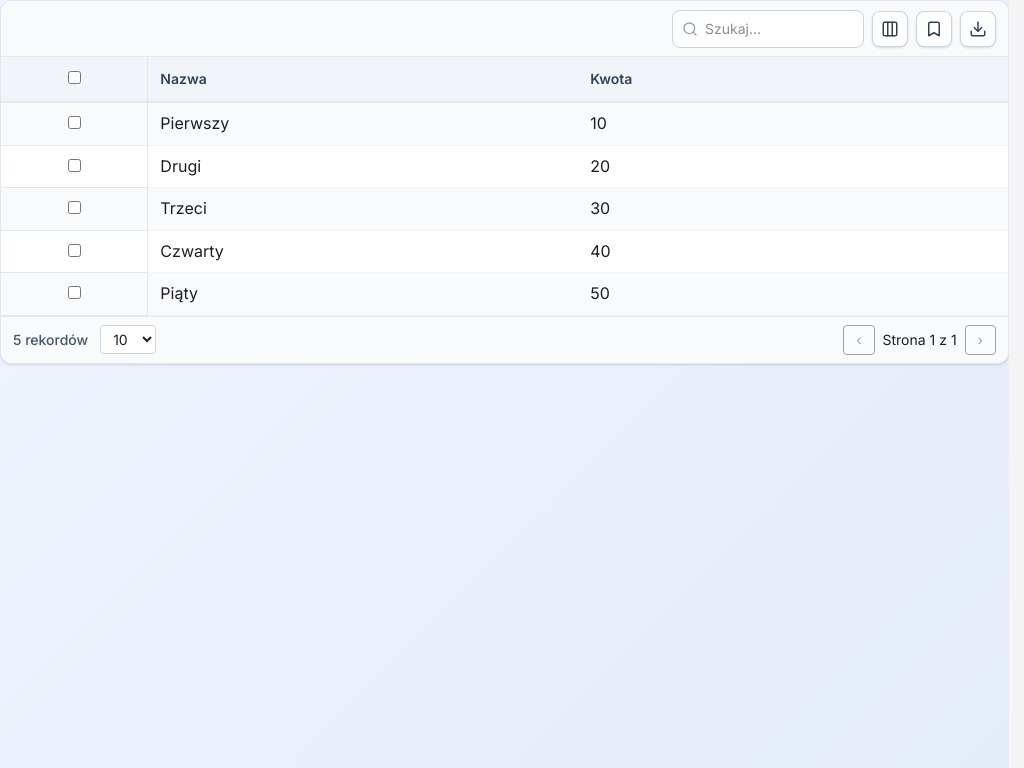
DataGrid inline editing › selects the visible range between an anchor row and a Shift-clicked row
Click the checkbox named "Zaznacz rekord 1" at {"x": 74, "y": 122}, box [68,116,81,129]
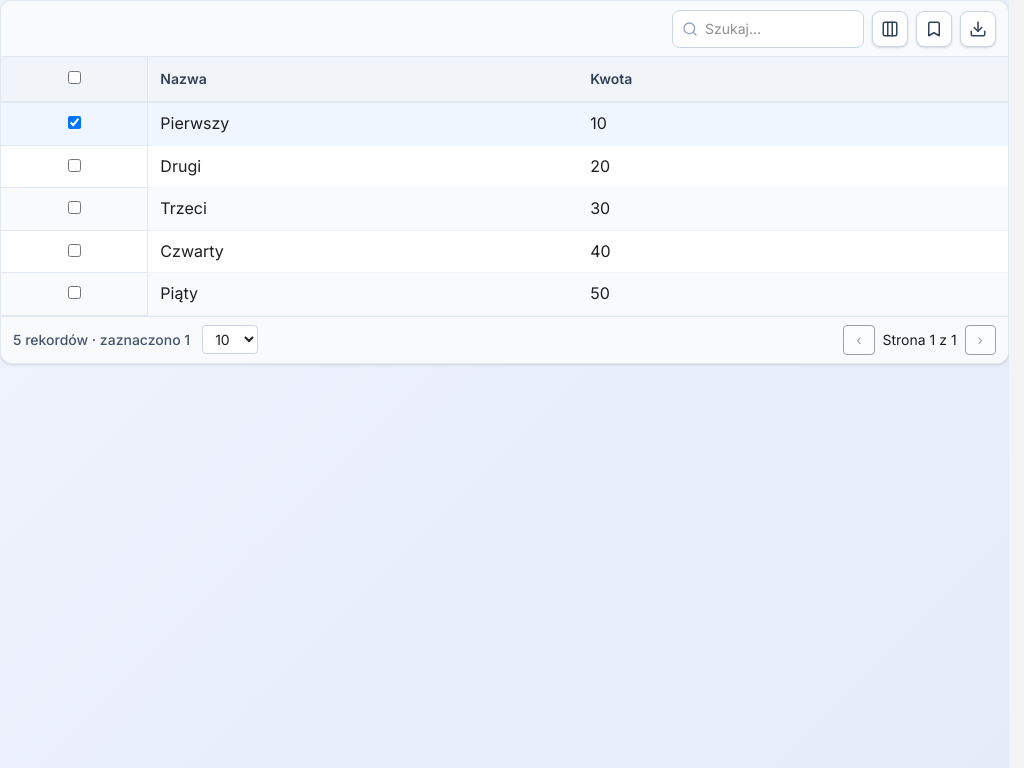
Click the text "Czwarty" at {"x": 363, "y": 252}, box [148,231,578,273]
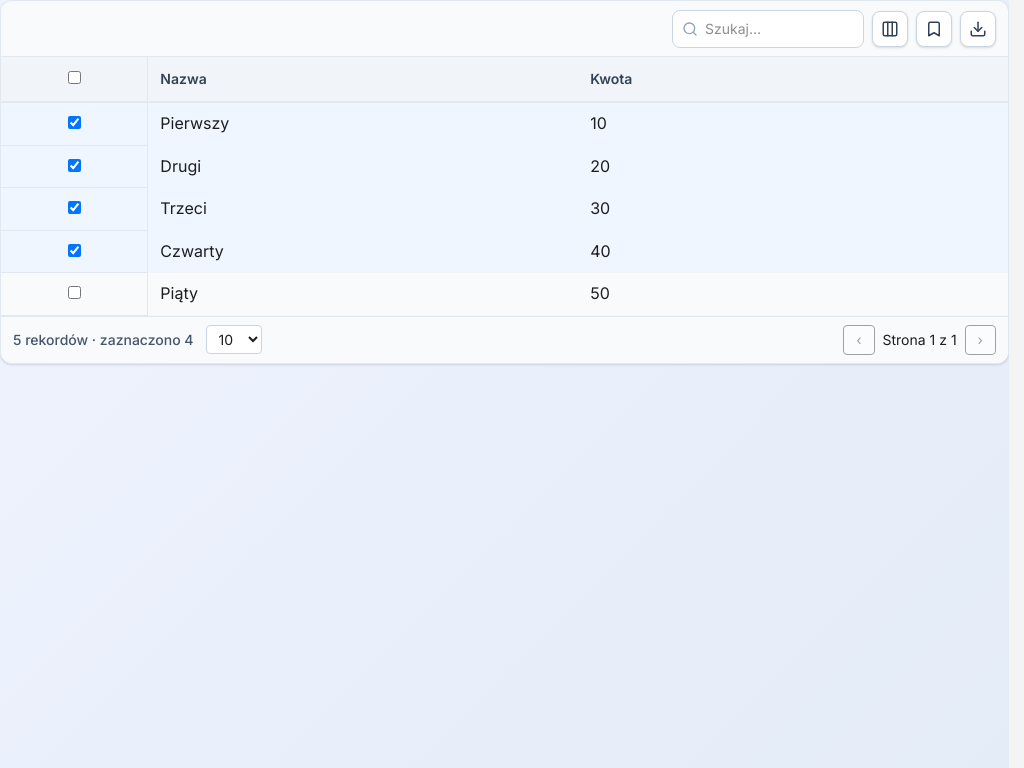
Expected: the checkbox named "Zaznacz rekord 1" is checked, [68,116,81,129]
Expected: the checkbox named "Zaznacz rekord 2" is checked, [68,159,81,172]
Expected: the checkbox named "Zaznacz rekord 3" is checked, [68,201,81,214]
